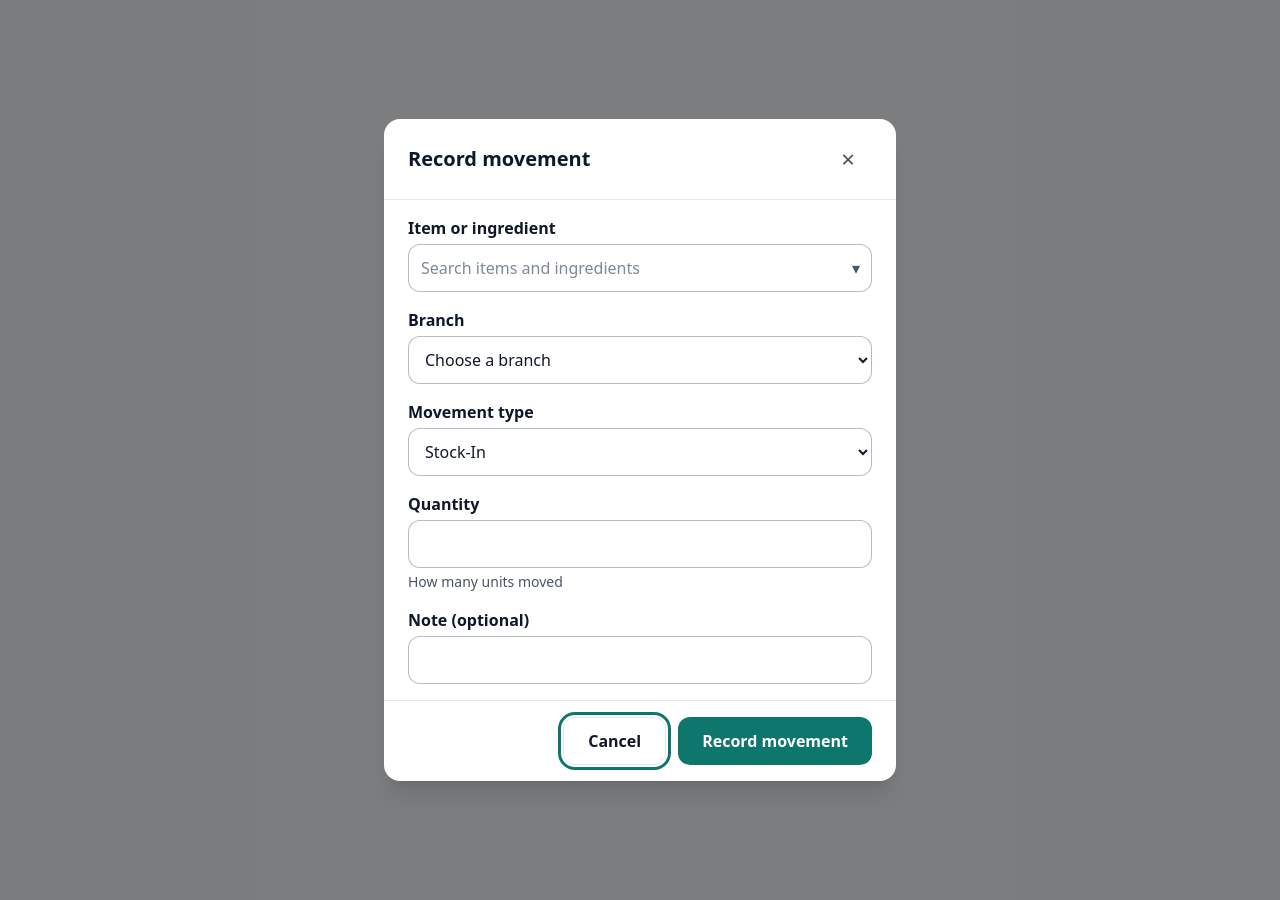
it: RecordMovementDialog › groups items and ingredients under their categories and hides the copy that only mirrors an item
Step 1. Click the dropdown labelled "Item or ingredient" → (640, 268), box [408, 244, 872, 292]
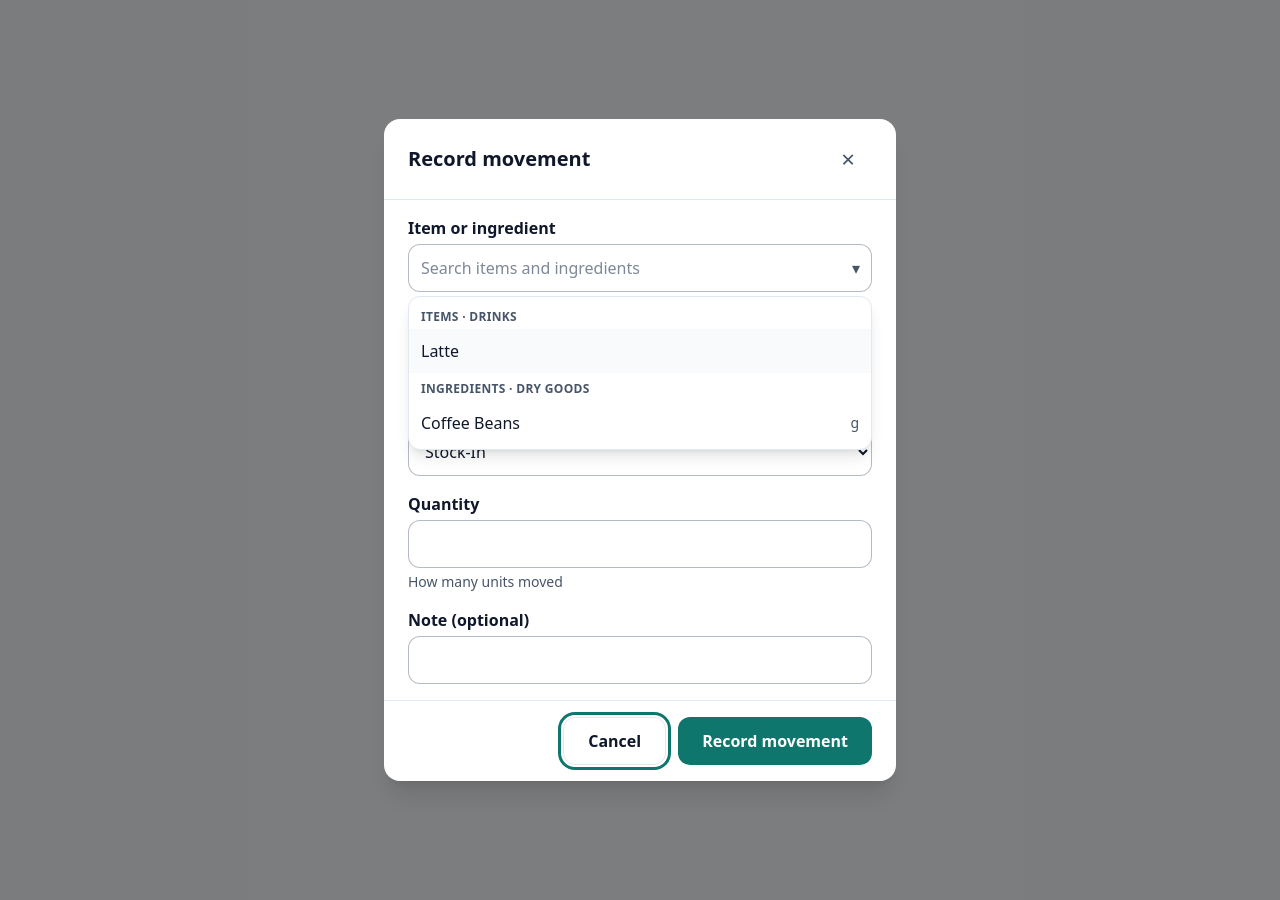
Now the text "Items · Drinks" is shown, box [421, 308, 517, 325]
Now the text "Ingredients · Dry goods" is shown, box [421, 380, 590, 397]
Now the options read "Latte", "Coffee Beansg", in this order, box [409, 329, 871, 373]; [421, 412, 859, 434]
